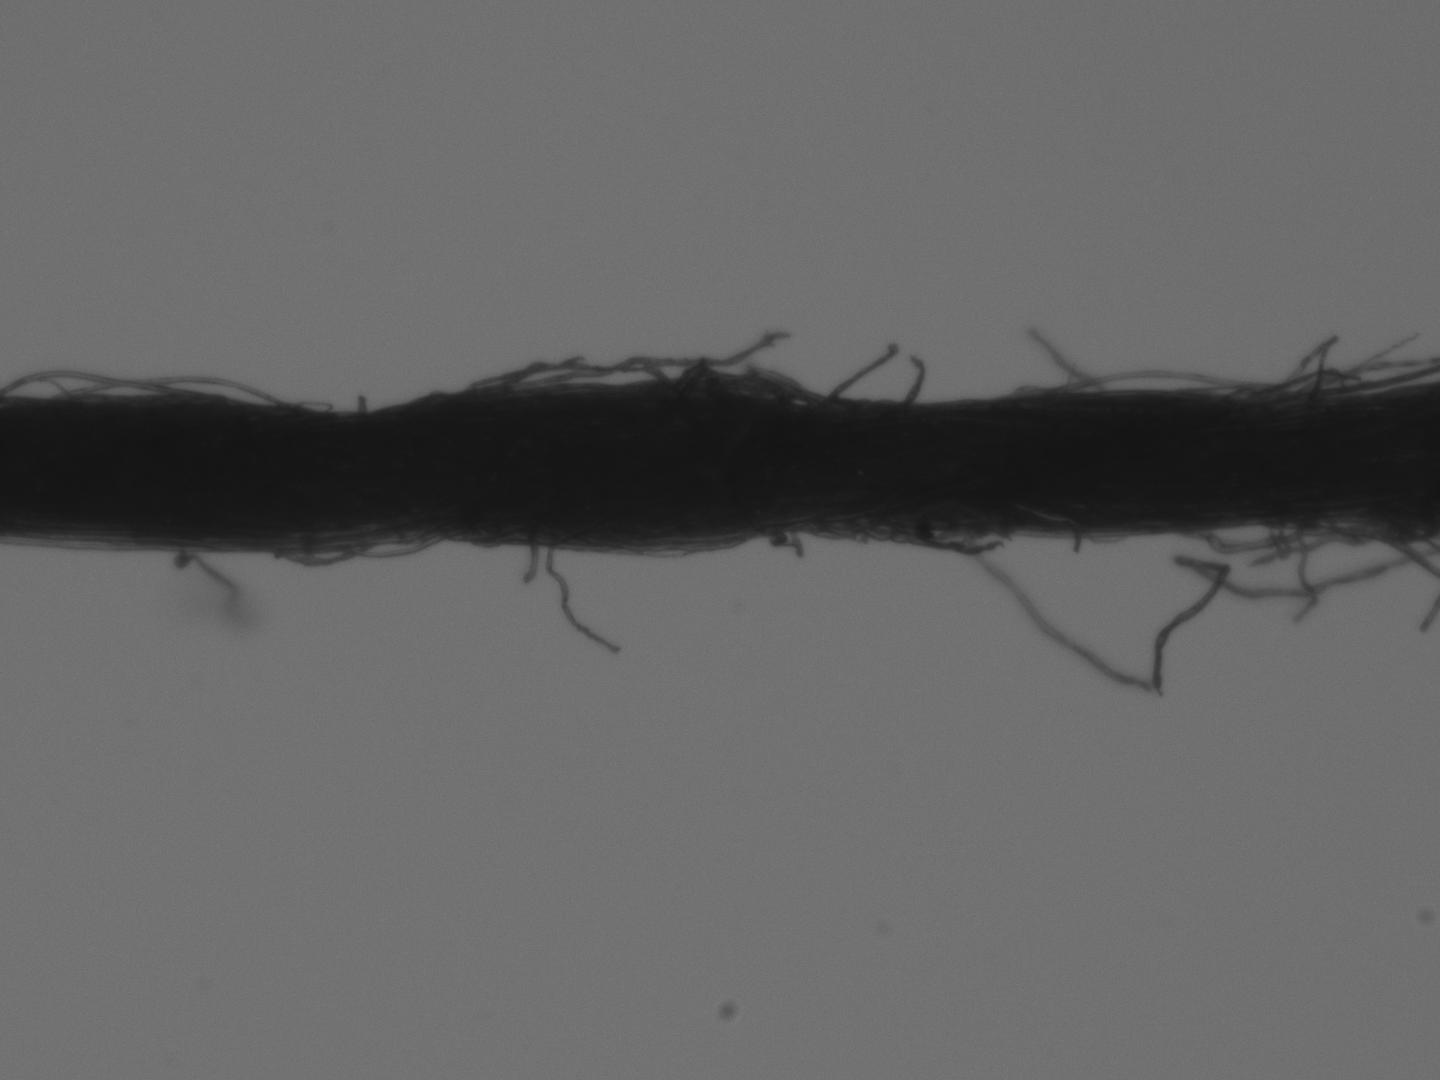loop_fiber: (5, 365, 322, 421), (655, 351, 906, 414), (466, 348, 674, 404), (1179, 520, 1422, 563), (262, 530, 460, 575), (807, 517, 1014, 560), (1218, 366, 1382, 400), (755, 515, 810, 562)
protruding_fiber: (544, 541, 626, 658), (818, 336, 901, 412)
